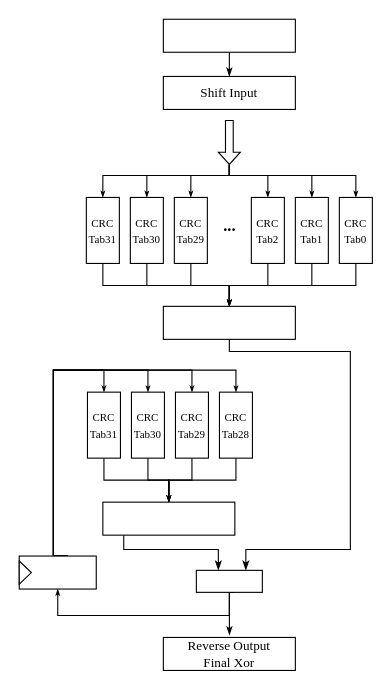
Some shapes in this 392 by 690 pixel diagram are drawn without their labels. Here are the shapes that lost their labels. From the top down, the box of each, then its label:
(162, 18, 295, 52): Reverse Bytes Count Zeros
(162, 305, 295, 339): combine CRC results
(102, 501, 235, 535): reduceStreamBy4
(18, 555, 96, 589): inter CRC
(195, 569, 262, 592): XOR
